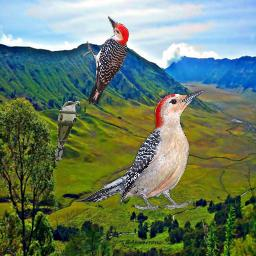Cuckoo: (55, 101, 80, 162)
Woodpecker: (73, 87, 208, 211), (81, 15, 129, 104)
